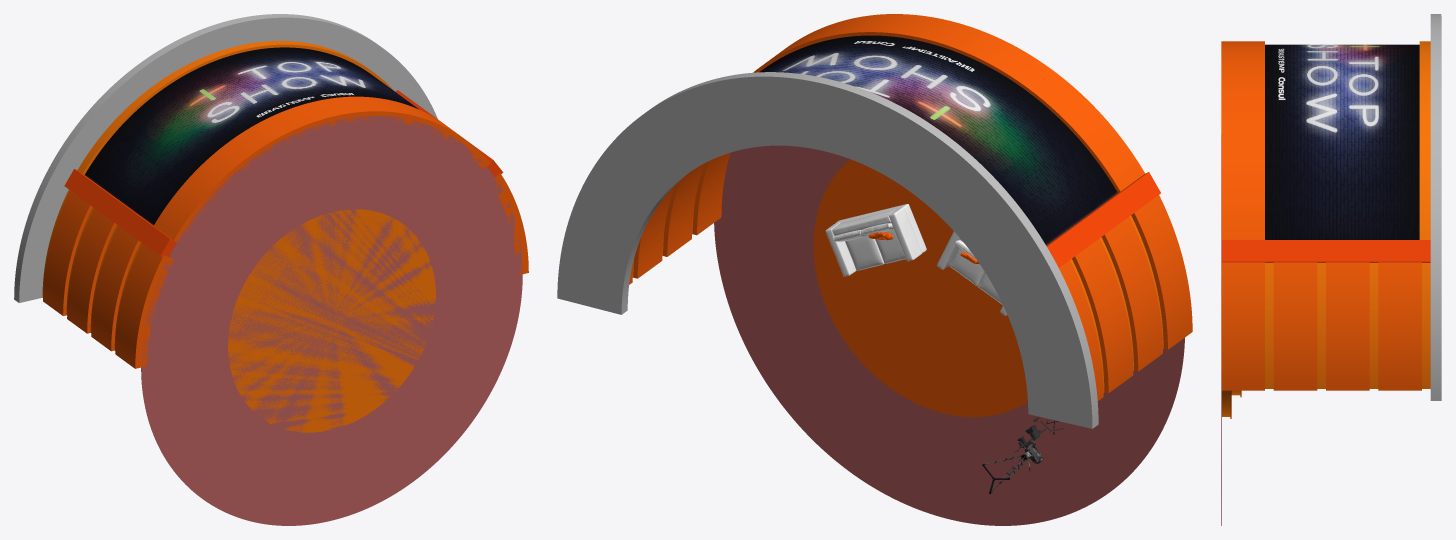
Rendered from asset.glb.
3 views of the same model, side by side, from view 1: azimuth 30°, elevation 25°; view 2: azimuth 150°, elevation 25°; view 3: azimuth 270°, elevation 25° (orthographic). The views are drawn at different scales.
Parts seen in each view (by area): view 1: Circle011, Cylinder002, Circle015, Circle009, Circle014, Circle001, Circle005, Circle007, Circle003, Circle013, Box004; view 2: Circle011, Circle009, Circle015, Cylinder004, Circle014, Cylinder003, Circle003, Circle001, Circle005, archmodels_129_002obj_048, Box004, Circle007 (+2 smaller); view 3: Circle015, Circle014, Circle003, Circle001, Circle005, Circle007, Box003, Circle009, Circle013, Circle006, Circle002, Circle004 (+3 smaller).
Part boxes in pixels (bbox=[...]): Circle011: bbox=[141, 116, 522, 525]; Cylinder002: bbox=[228, 209, 435, 432]; Circle015: bbox=[85, 47, 418, 225]; Circle009: bbox=[14, 14, 437, 302]; Circle014: bbox=[154, 96, 490, 243]; Circle001: bbox=[115, 173, 528, 368]; Circle005: bbox=[67, 208, 116, 333]; Circle007: bbox=[43, 190, 92, 315]; Circle003: bbox=[91, 226, 140, 351]; Circle013: bbox=[77, 41, 394, 174]; Box004: bbox=[64, 169, 176, 257]; Circle011: bbox=[714, 145, 1184, 525]; Circle009: bbox=[557, 72, 1098, 428]; Circle015: bbox=[759, 35, 1117, 245]; Cylinder004: bbox=[829, 171, 1024, 398]; Circle014: bbox=[753, 14, 1144, 192]; Cylinder003: bbox=[813, 159, 1027, 417]; Circle003: bbox=[663, 163, 1162, 371]; Circle001: bbox=[692, 152, 1192, 349]; Circle005: bbox=[633, 185, 1133, 393]; archmodels_129_002obj_048: bbox=[825, 204, 926, 276]; Box004: bbox=[1046, 172, 1160, 267]; Circle007: bbox=[629, 260, 1103, 400]; Circle015: bbox=[1265, 44, 1419, 239]; Circle014: bbox=[1221, 41, 1264, 240]; Circle003: bbox=[1273, 262, 1317, 390]; Circle001: bbox=[1221, 259, 1264, 390]; Circle005: bbox=[1326, 262, 1369, 390]; Circle007: bbox=[1378, 262, 1421, 390]; Box003: bbox=[1222, 240, 1430, 262]; Circle009: bbox=[1430, 14, 1441, 400]; Circle013: bbox=[1419, 41, 1430, 239]; Circle006: bbox=[1369, 263, 1378, 388]; Circle002: bbox=[1265, 263, 1273, 388]; Circle004: bbox=[1317, 263, 1325, 388].
Size of the model in its own units: 12.5 by 11.75 by 5.05.
Materials: 14 (3 with a texture image).
